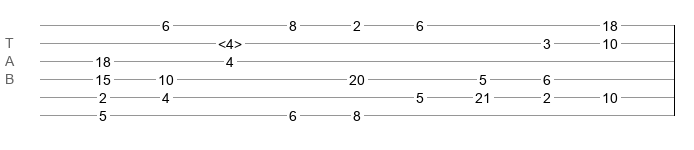10: (158, 72, 174, 82), (602, 36, 618, 46), (602, 90, 618, 100)
15: (95, 72, 111, 82)
18: (95, 54, 111, 64), (602, 18, 618, 28)
2: (99, 90, 107, 100), (353, 18, 361, 28), (543, 90, 551, 100)
20: (349, 72, 365, 82)
21: (475, 90, 491, 100)
3: (543, 36, 551, 46)
4: (162, 90, 170, 100), (226, 54, 234, 64)
5: (99, 108, 107, 118), (416, 90, 424, 100), (479, 72, 487, 82)
6: (162, 18, 170, 28), (289, 108, 297, 118), (416, 18, 424, 28), (543, 72, 551, 82)
8: (289, 18, 297, 28), (353, 108, 361, 118)
harmonic: (218, 36, 242, 46)
